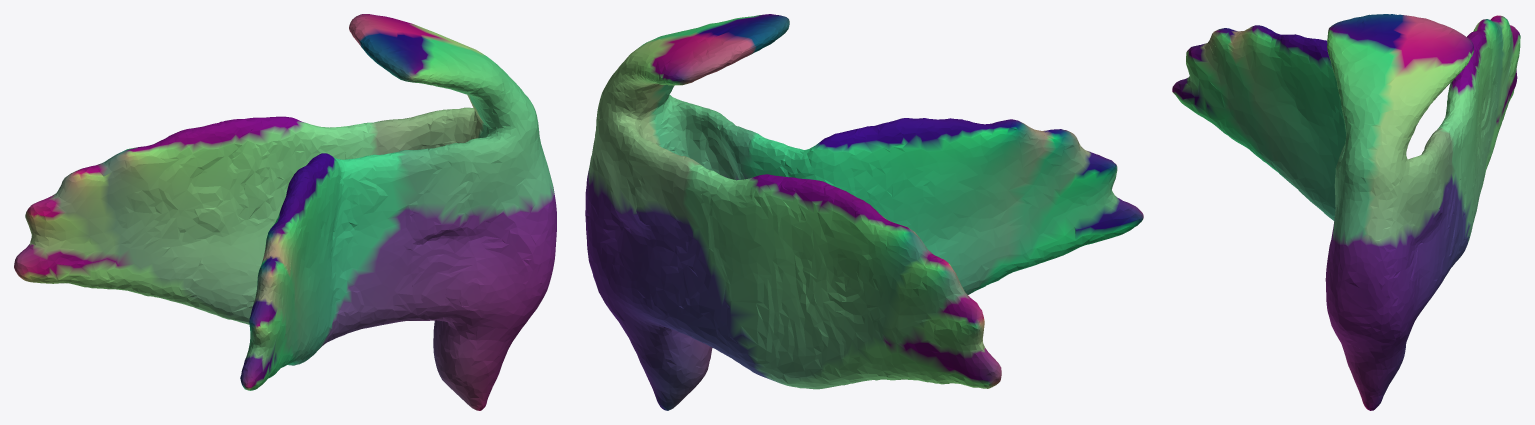
Rendered from bird1-19.off.obj.
3 views of the same model, side by side, from view 1: azimuth 30°, elevation 25°; view 2: azimuth 150°, elevation 25°; view 3: azimuth 270°, elevation 25° (orthographic). The views are drawn at different scales.
Size of the model in its own units: 1.42 by 1.13 by 1.02.
